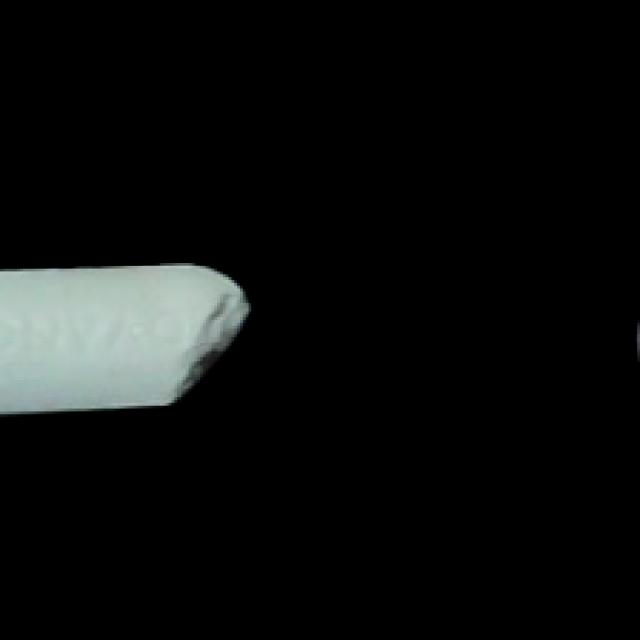defected: (0, 254, 260, 431)
